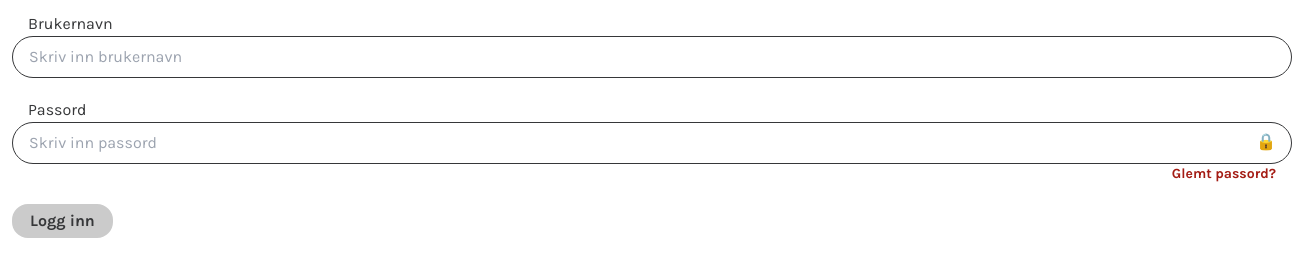
it: FormLogin › enables button when input
Step 1. Type "username" into the field with placeholder "Skriv inn brukernavn" → (652, 57), box [12,36,1292,78]
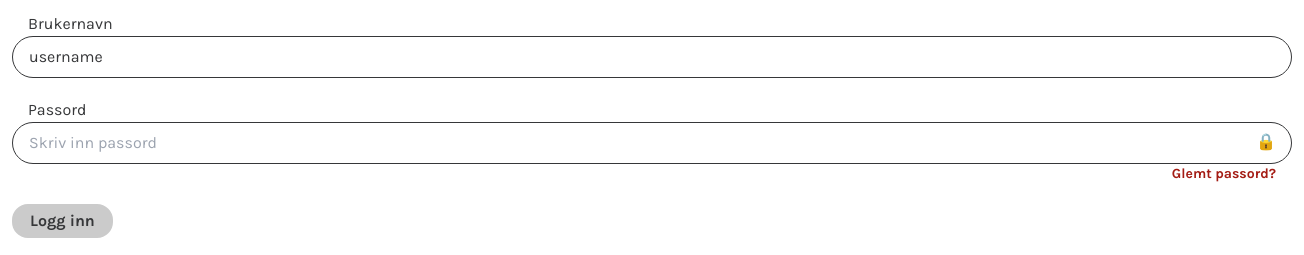
Step 2. Type "password" into the password field with placeholder "Skriv inn passord" → (652, 143), box [12,122,1292,164]
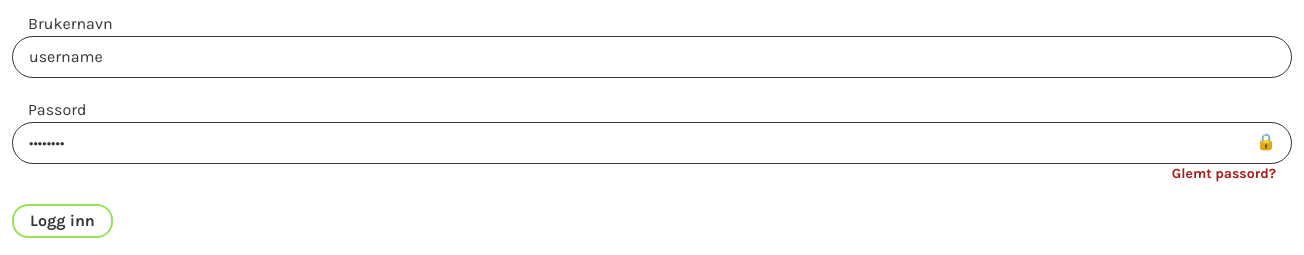
Result: the button "Logg inn" is enabled at [12,204,113,238]
